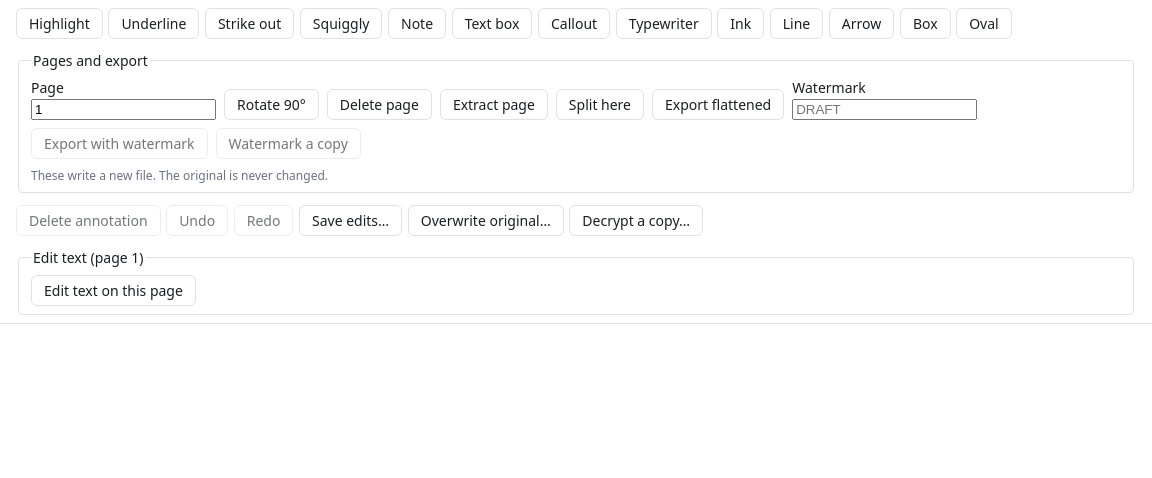
D15: the control shows the colour that will be drawn › still reports a stored colour the palette does not contain
Click the button "Text box" at [492, 24], box [452,8,532,39]
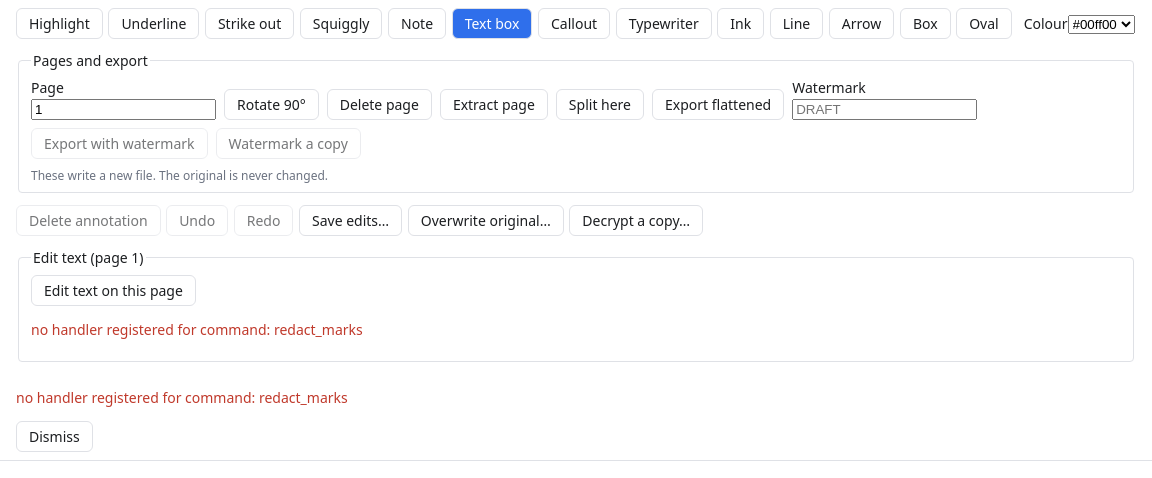
expect the dropdown labelled "Colour" shows "#00ff00": met, box [1068,14,1134,34]
